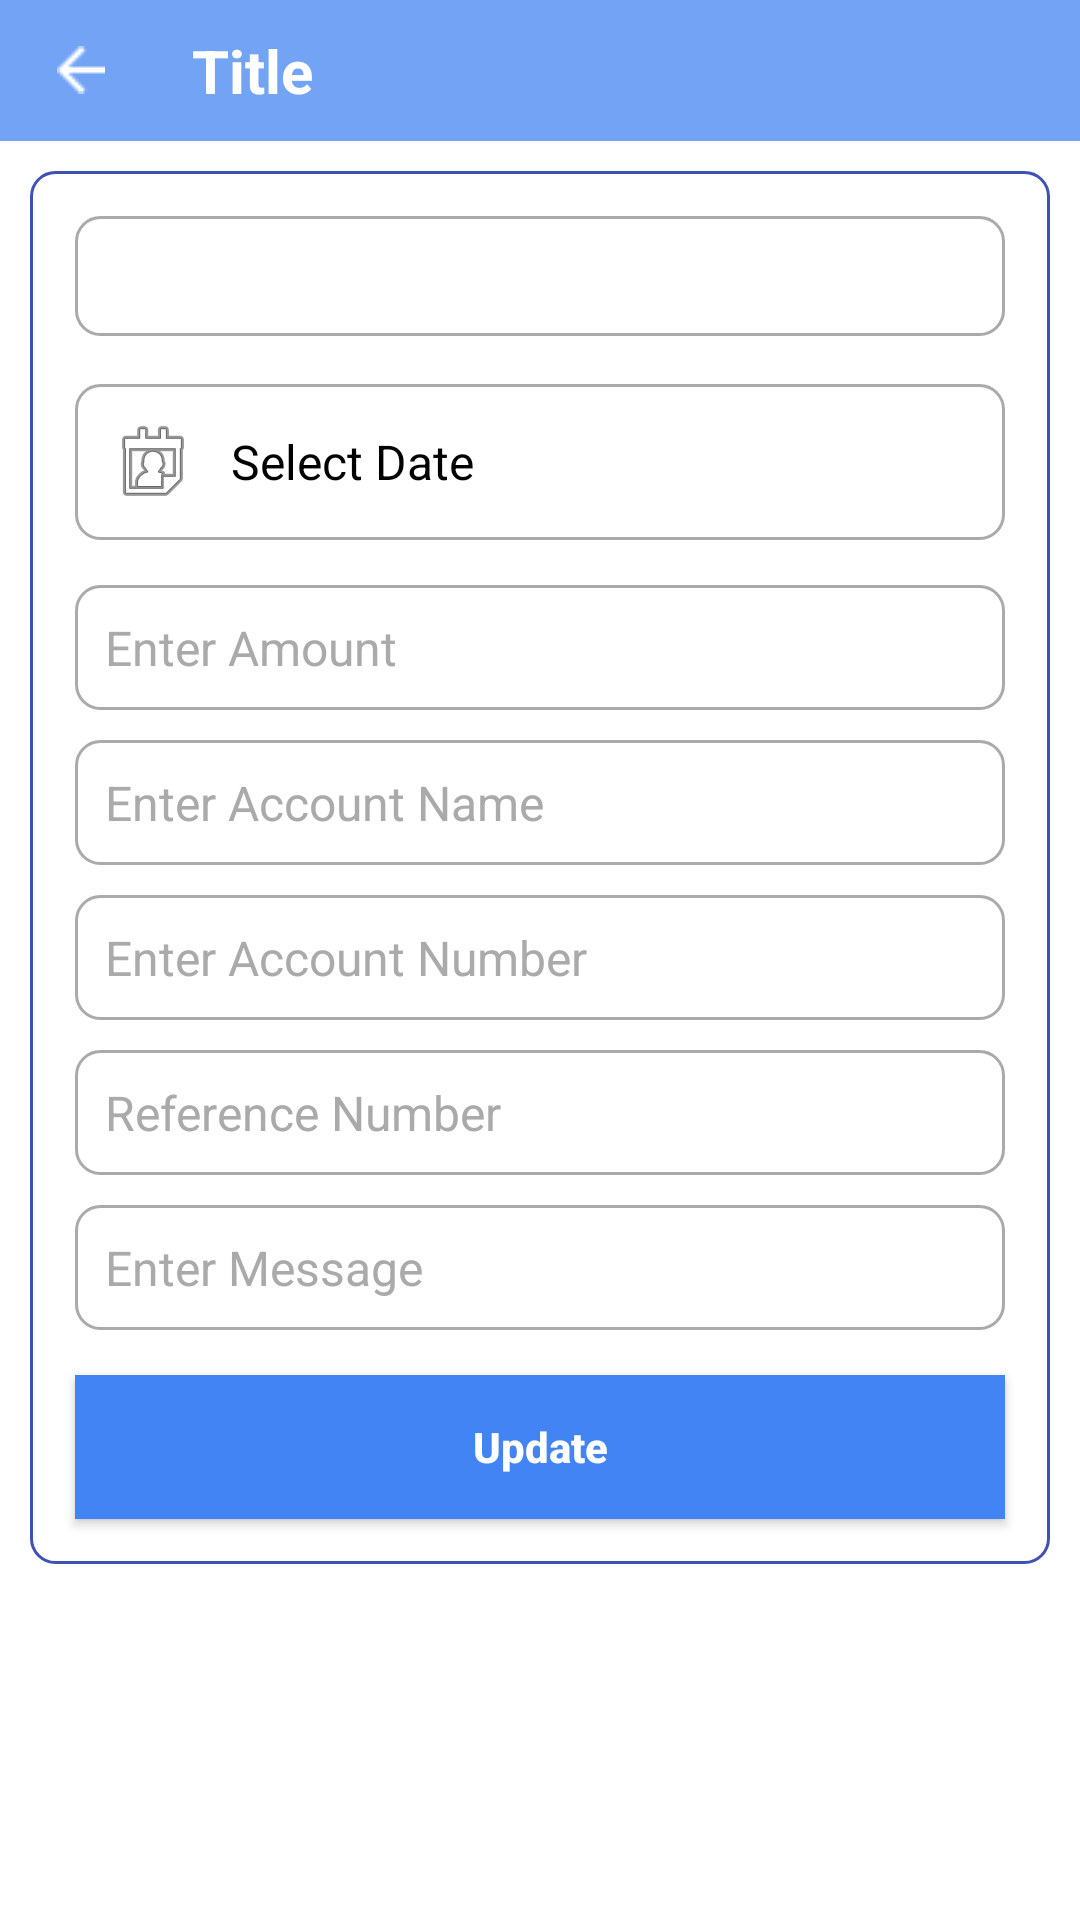

Icons on this 1080*1920 Android screen, each with the point to tap as (x,y):
back: (81,70)
